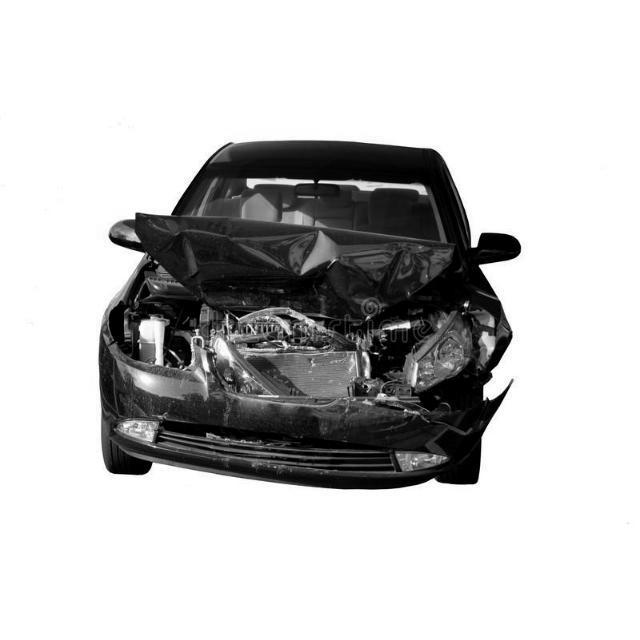Headlight-damage: (392, 323, 477, 396)
bonnet-dent: (140, 223, 481, 362)
